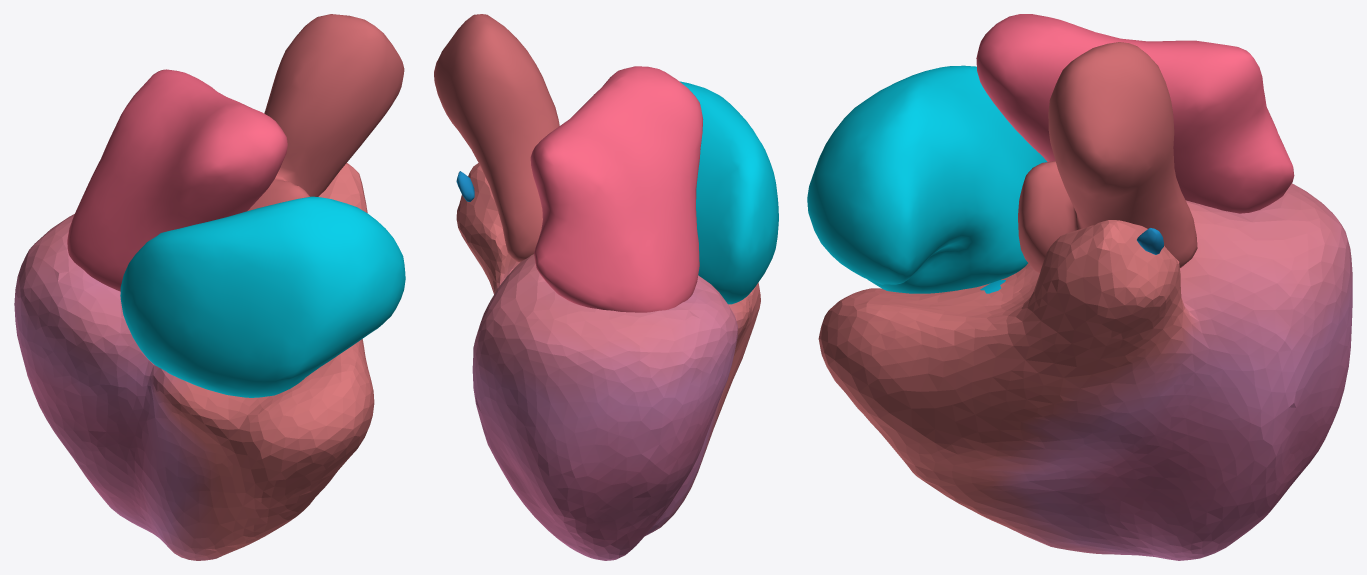
Rendered from frame_12.glb.
3 views of the same model, side by side, from view 1: azimuth 30°, elevation 25°; view 2: azimuth 150°, elevation 25°; view 3: azimuth 270°, elevation 25° (orthographic). The views are drawn at different scales.
Parts seen in each view (by area): view 1: Renderer Node; view 2: Renderer Node; view 3: Renderer Node.
Boxes of the visible parts, <box> form: Renderer Node: <box>14,14,405,560</box>; Renderer Node: <box>434,14,778,560</box>; Renderer Node: <box>807,14,1352,560</box>.
Bounding box in the file's own units: 106 × 154 × 126.
